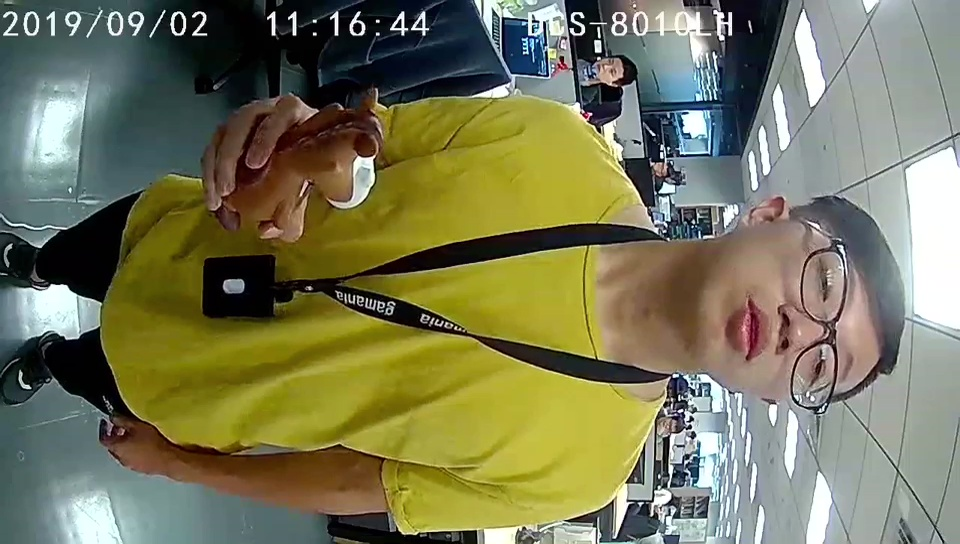horse: (289, 88, 383, 224)
